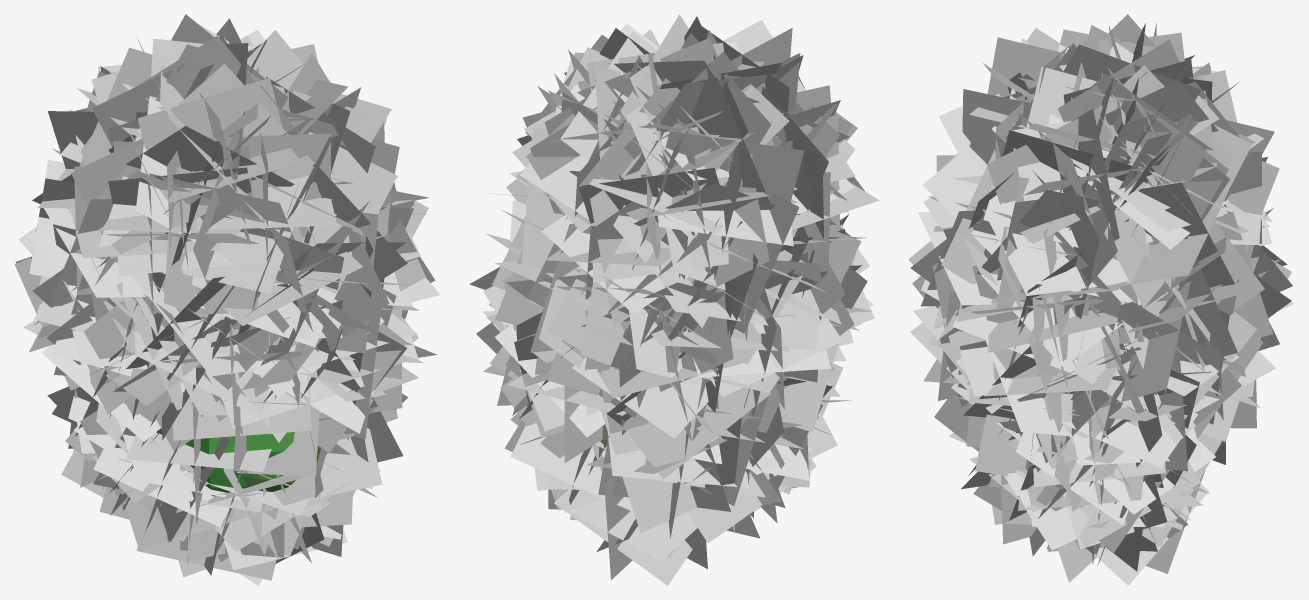
The model's file is shrub.fbx.
3 renders of one model, left to right at view 1: azimuth 30°, elevation 25°; view 2: azimuth 150°, elevation 25°; view 3: azimuth 270°, elevation 25°, orthographic. The views are drawn at different scales.
Parts seen in each view (by area): view 1: TREE LEAVES, tree_body; view 2: TREE LEAVES; view 3: TREE LEAVES.
Part boxes in pixels (left/top/right/bottom): TREE LEAVES: left=14, top=14, right=439, bottom=585; tree_body: left=156, top=428, right=327, bottom=496; TREE LEAVES: left=469, top=14, right=879, bottom=585; TREE LEAVES: left=908, top=14, right=1293, bottom=585.
Size of the model in its own units: 253 by 373 by 247.
